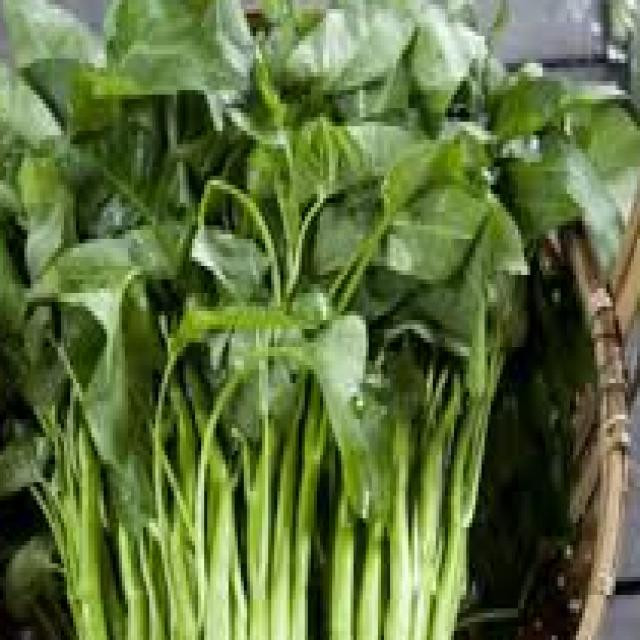inorganic: (6, 4, 637, 635)
